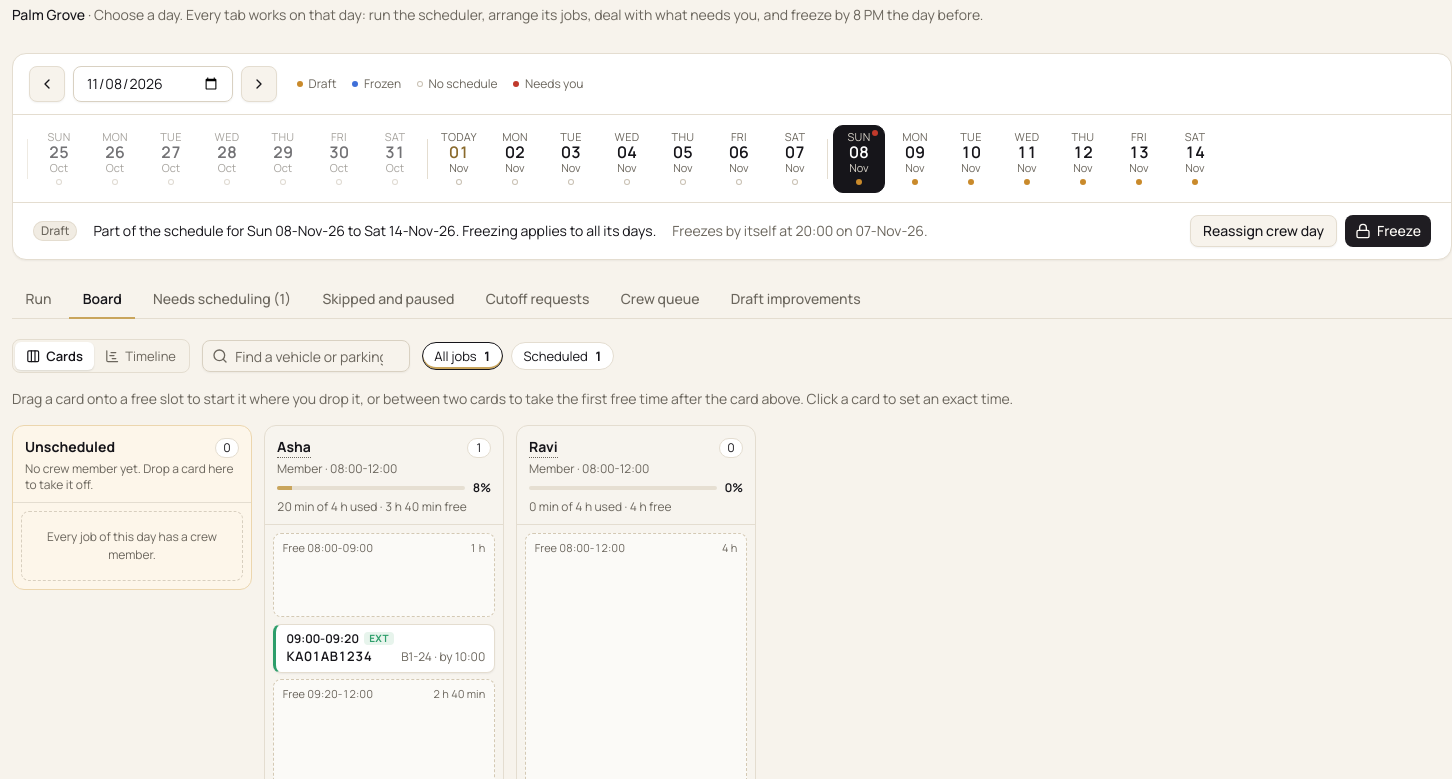
Test case: the timeline view (ADM-SCH-33) › switches between Cards and Timeline
Click the button "Timeline": (141, 356) [94, 342, 187, 370]
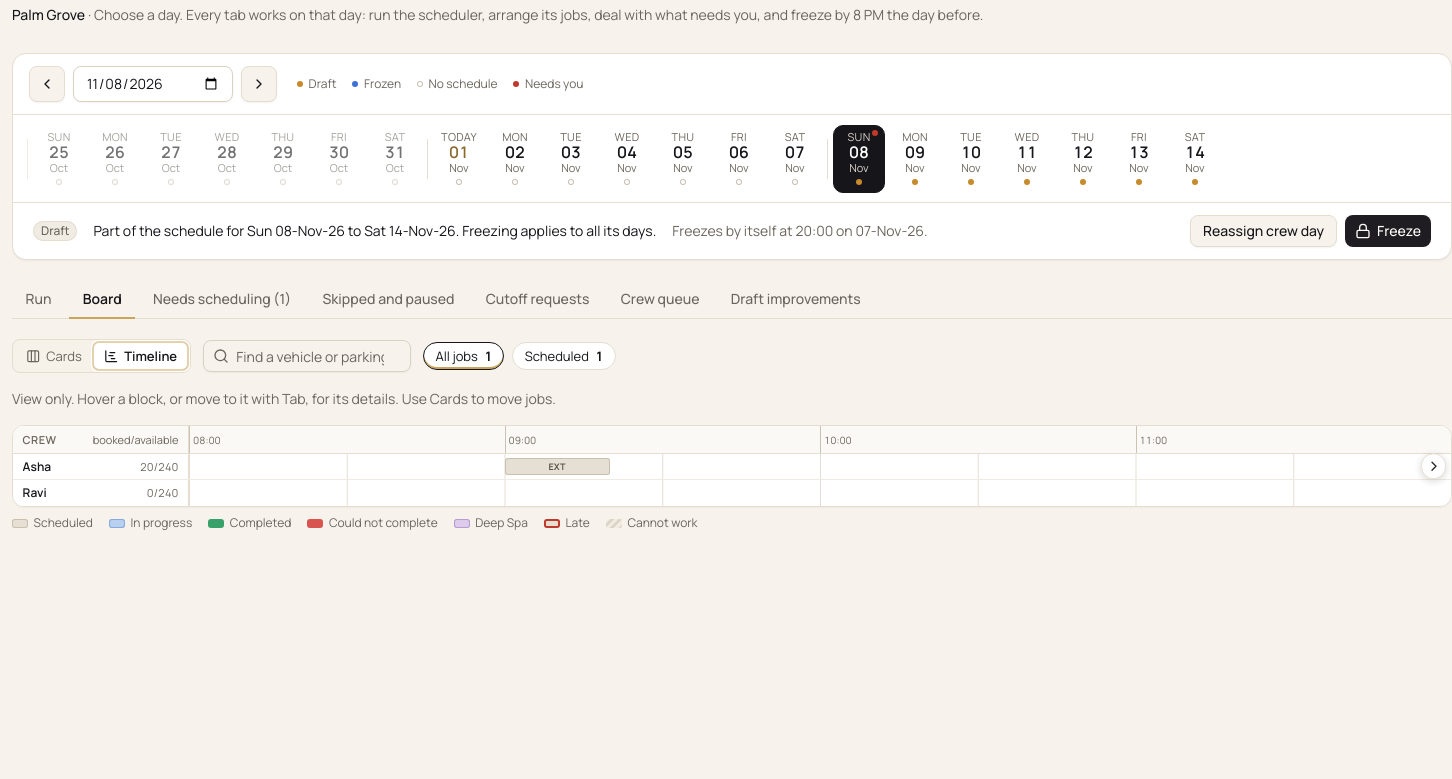
Now the element named "Day timeline" is shown, box [12, 425, 1451, 507]
Click the button "Cards": (54, 356) [15, 342, 93, 370]
(page scrolled)
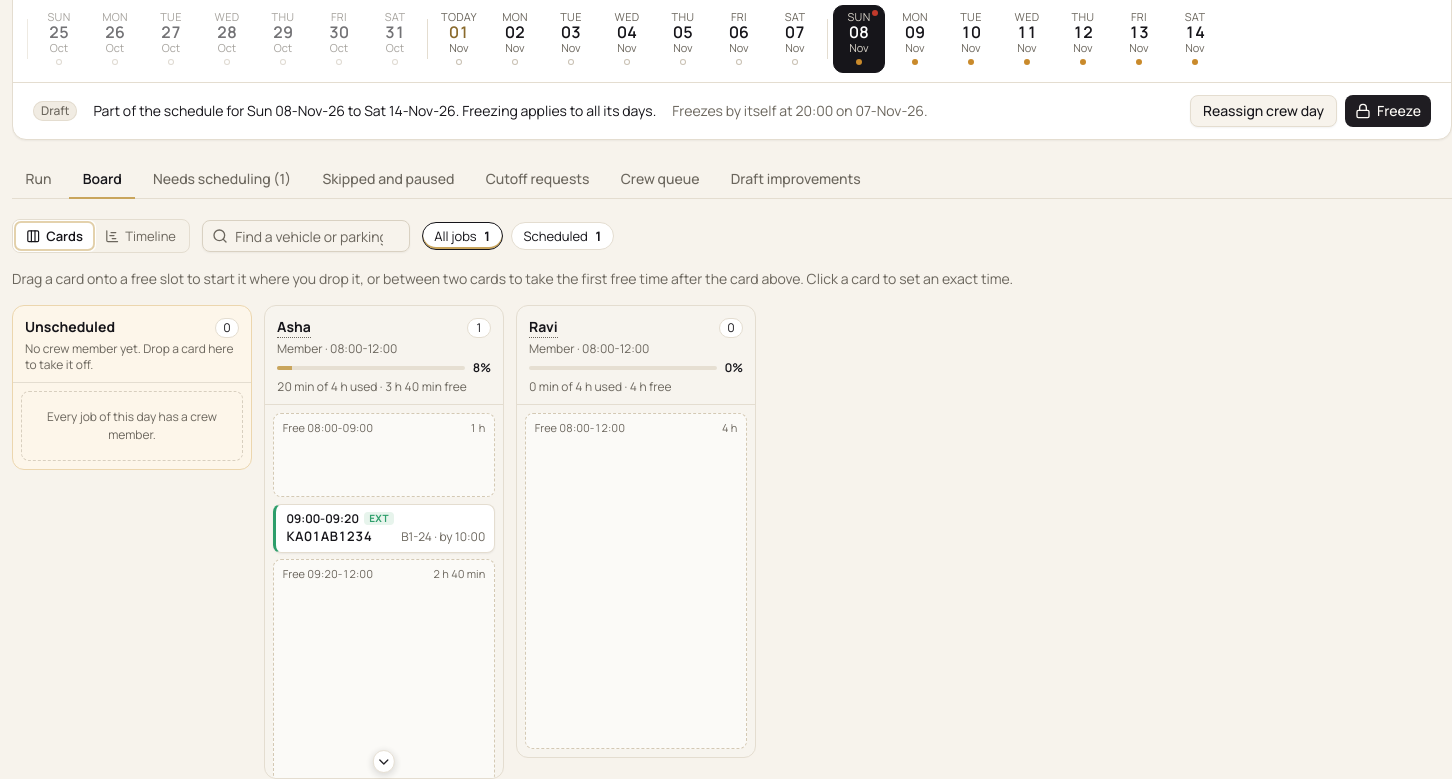
Now the element named "Day board" is shown, box [12, 305, 756, 778]
